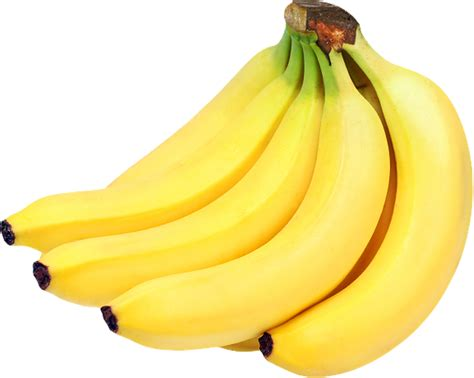banana: (96, 83, 393, 350), (29, 72, 334, 309), (258, 65, 474, 378), (1, 68, 301, 254)
